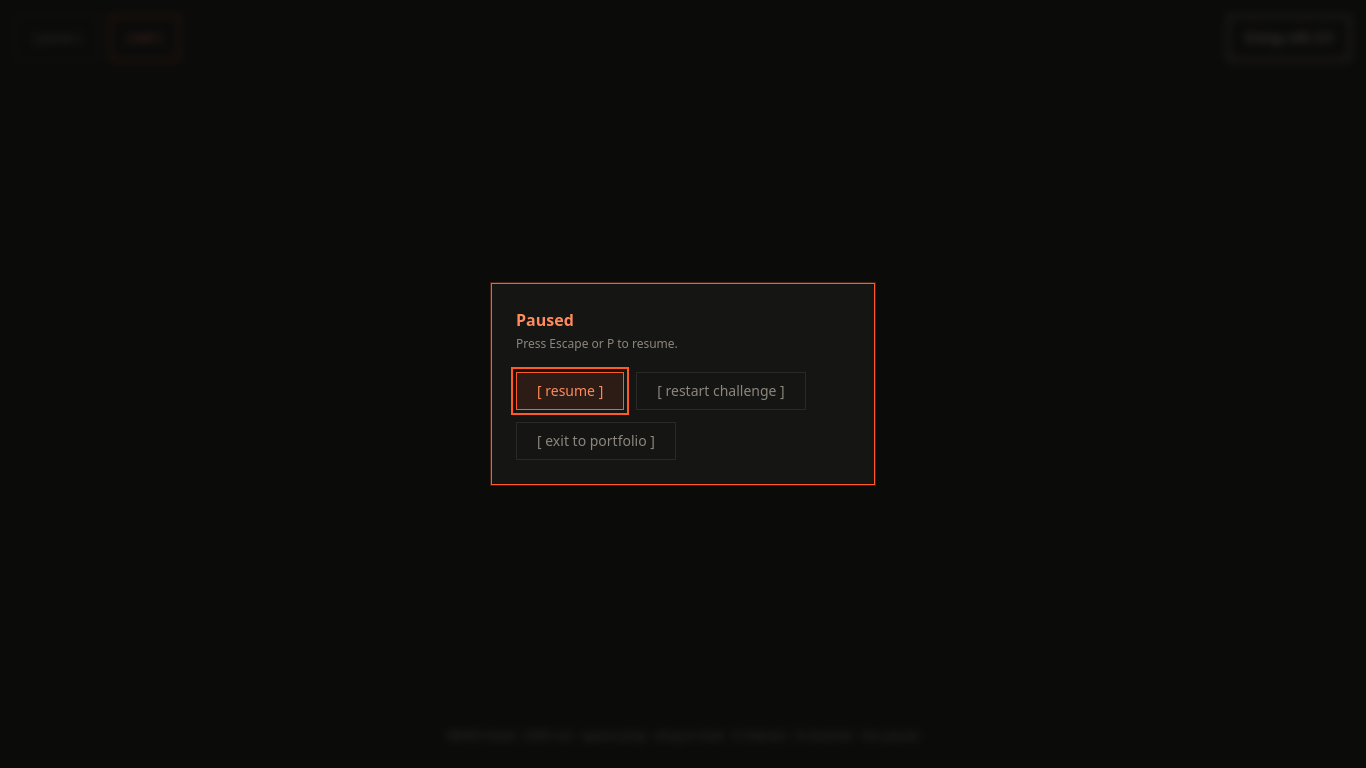
Test case: Restart in the pause menu › clears the cells and the completion, keeps settings and returns to the game
The image size is (1366, 768).
Click the button "[ restart challenge ]" at (721,391), box [636,372,806,410]
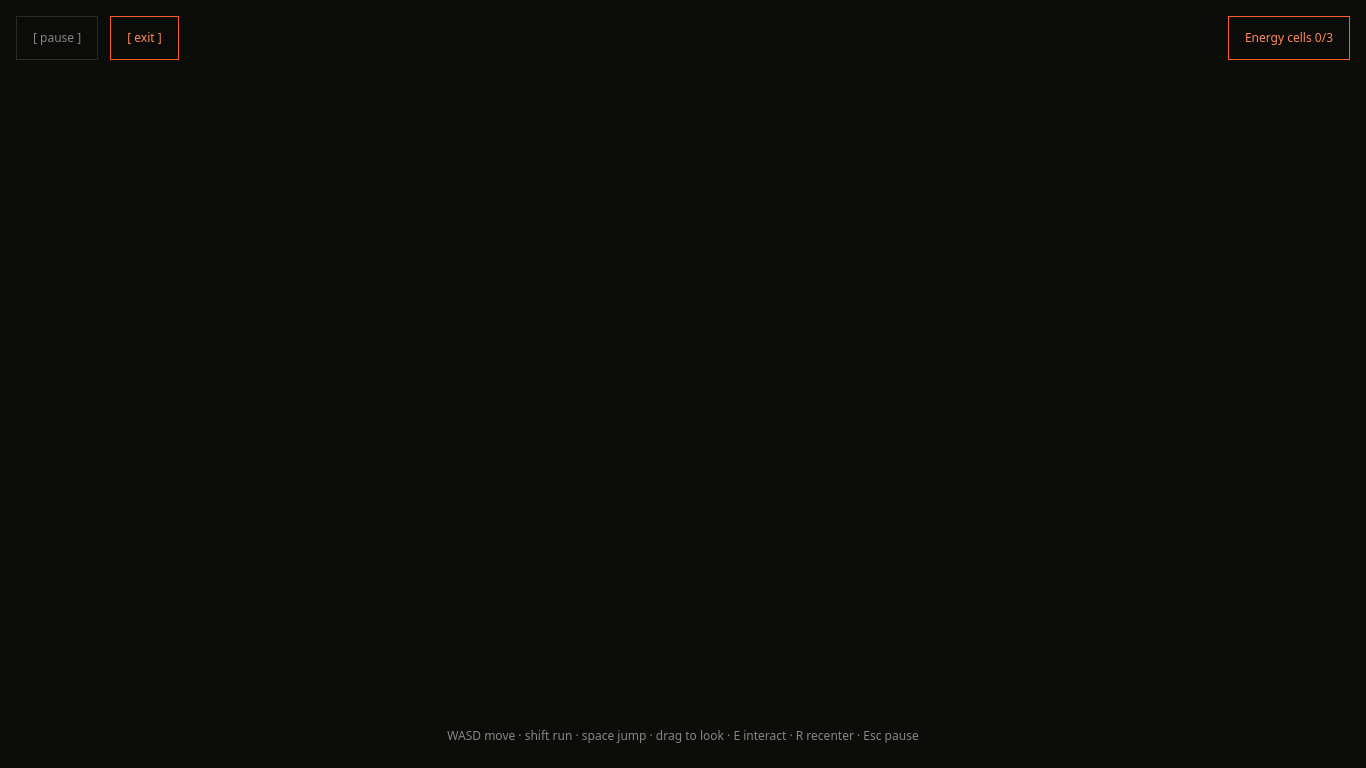
Check: the message "Energy cells 0/3" is shown, box [1228,16,1350,60]
